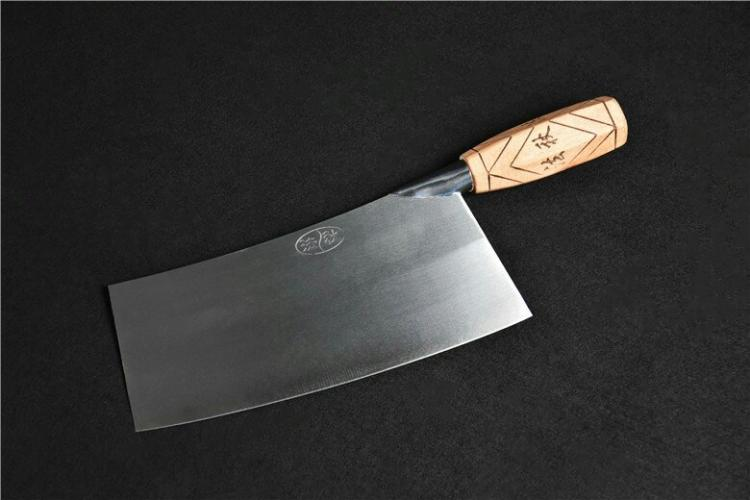knief: (99, 95, 630, 440)
